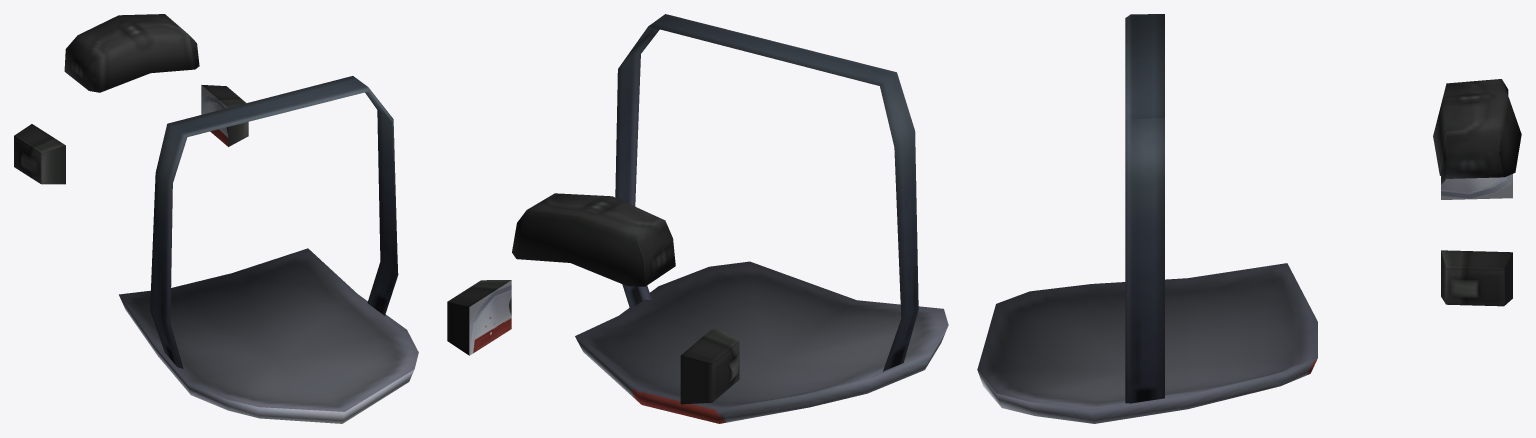
File: Avatar_Joe_H_C_01_0_5ccc1398__Avatar_Joe_C_01_063cf525_c1f257.obj
The picture shows the model from 3 angles, left to right: view 1: azimuth 30°, elevation 25°; view 2: azimuth 150°, elevation 25°; view 3: azimuth 270°, elevation 25°; orthographic projection. The views are drawn at different scales.
Bounding box in the file's own units: 0.7105 × 0.8082 × 1.22.
Materials: 1 (1 with a texture image).
